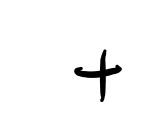plus: (71, 49, 122, 101)
